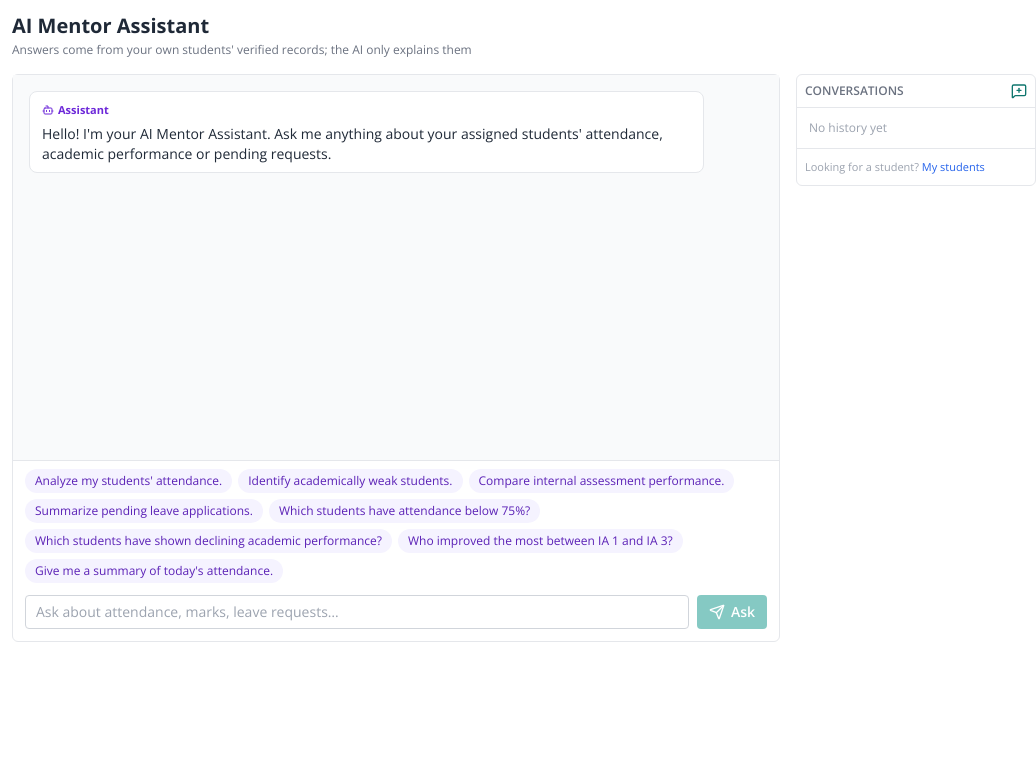
it: AI mentor assistant › offers retry on failure
The width and height of the screenshot is (1036, 780).
Type "hello" into the field named "Ask the assistant".
click(357, 612); type("hello")  # box x1=25 y1=595 x2=689 y2=629
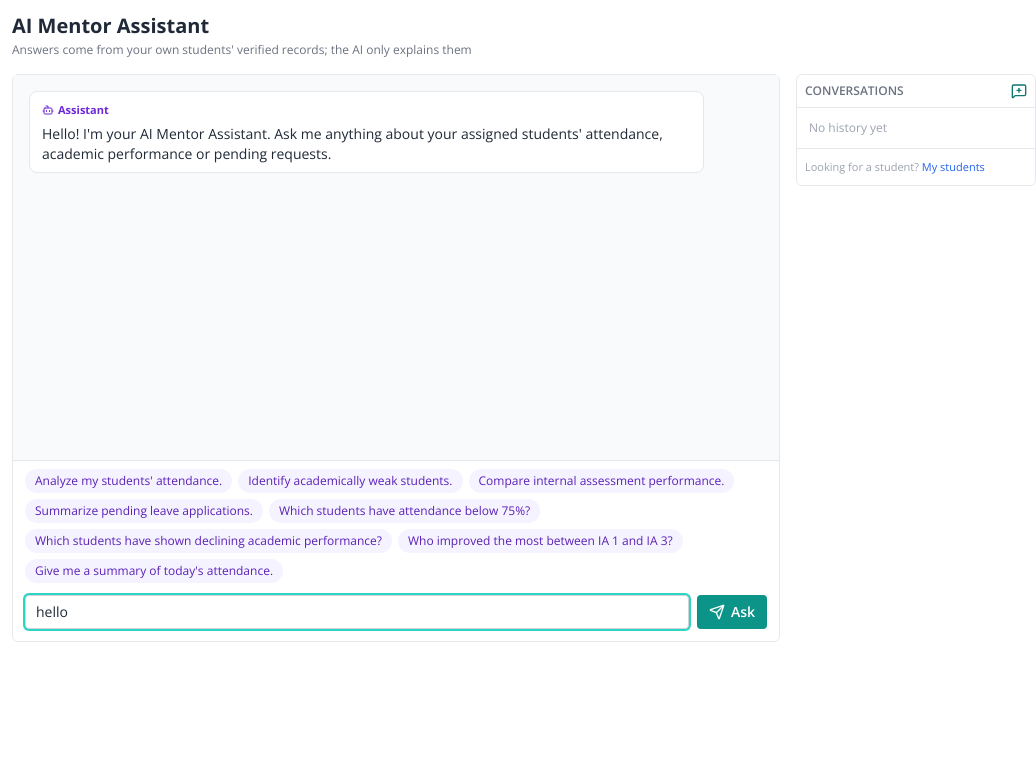
Click the button "Ask".
click(732, 612)  # box x1=697 y1=595 x2=767 y2=629
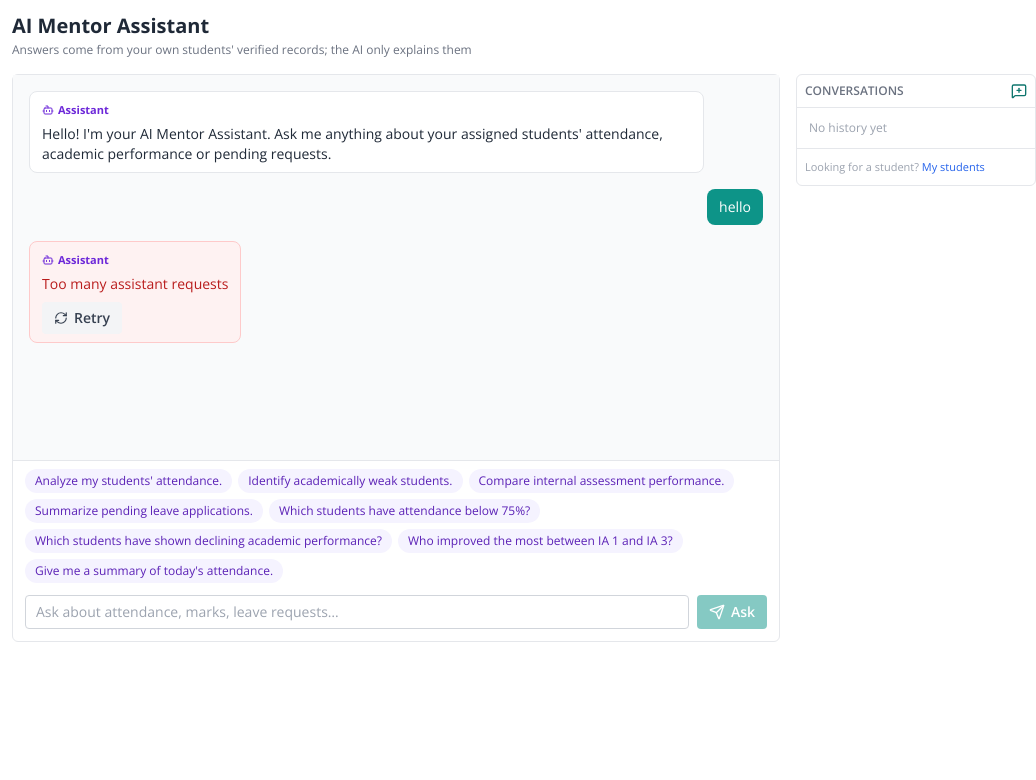
Check: the text "Too many assistant requests" is shown, box x1=42 y1=274 x2=228 y2=294
Check: the button "Retry" is shown, box x1=42 y1=302 x2=122 y2=334
